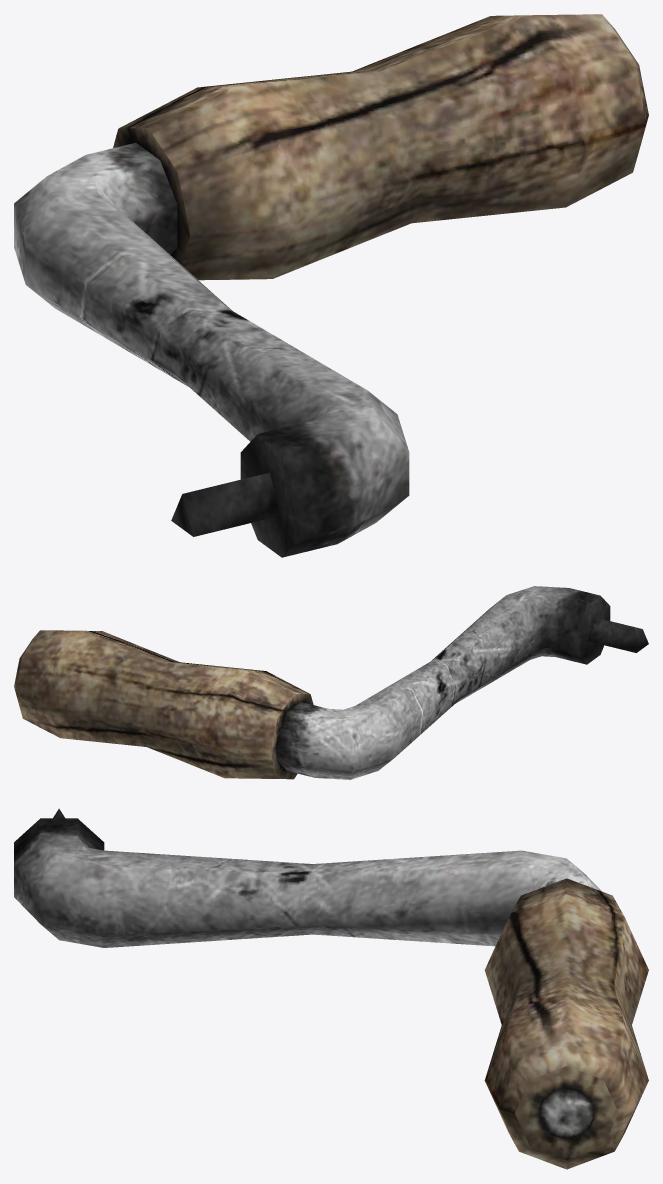
Rendered from hand_drill_part01.dae.
The picture shows the model from 3 angles, top to bottom: view 1: azimuth 30°, elevation 25°; view 2: azimuth 150°, elevation 25°; view 3: azimuth 270°, elevation 25°; orthographic projection. The views are drawn at different scales.
Parts seen in each view (by area): view 1: hand_drill_part01; view 2: hand_drill_part01; view 3: hand_drill_part01.
Boxes of the visible parts, bbox=[...] form: hand_drill_part01: bbox=[14, 14, 648, 557]; hand_drill_part01: bbox=[14, 586, 648, 779]; hand_drill_part01: bbox=[14, 808, 648, 1169].
Size of the model in its own units: 0.2109 by 0.051 by 0.1973.
